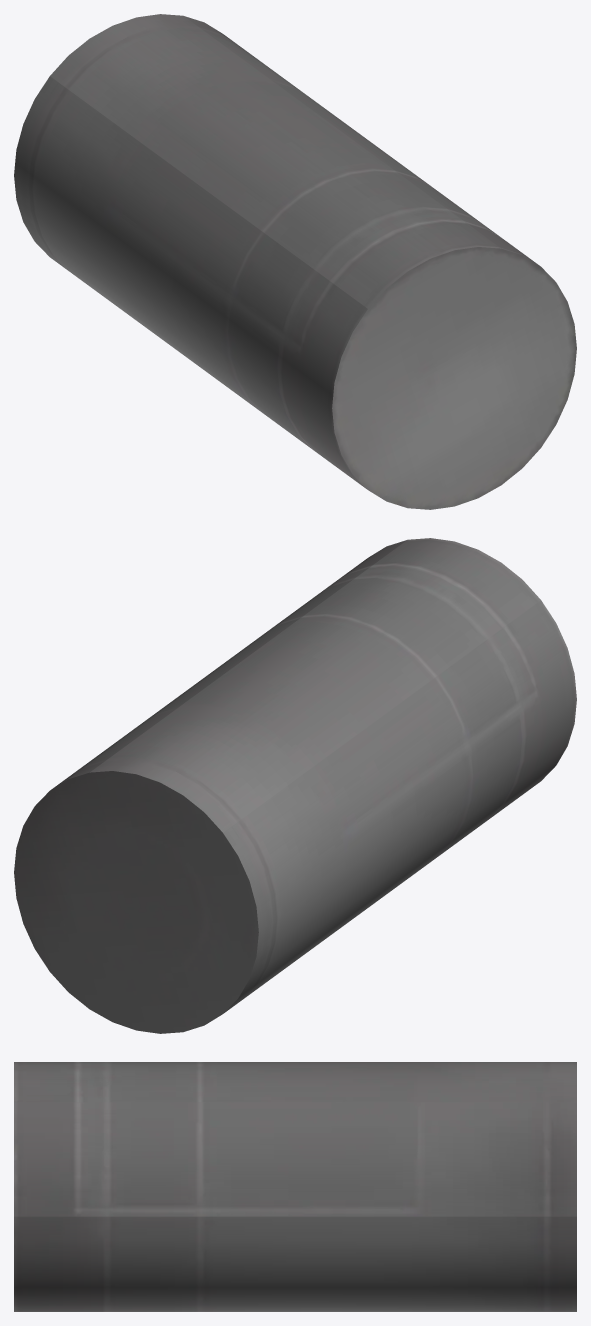
Rendered from optical_carriage__objective_primary.glb.
3 views of the same model, one above another, from view 1: azimuth 30°, elevation 25°; view 2: azimuth 150°, elevation 25°; view 3: azimuth 270°, elevation 25° (orthographic). The views are drawn at different scales.
Parts seen in each view (by area): view 1: world; view 2: world; view 3: world.
Part boxes in pixels (<box>): world: <box>14,14,576,509</box>; world: <box>14,538,576,1033</box>; world: <box>14,1062,576,1311</box>.
Size of the model in its own units: 0.016 by 0.016 by 0.036.
1 material, 1 textured.
